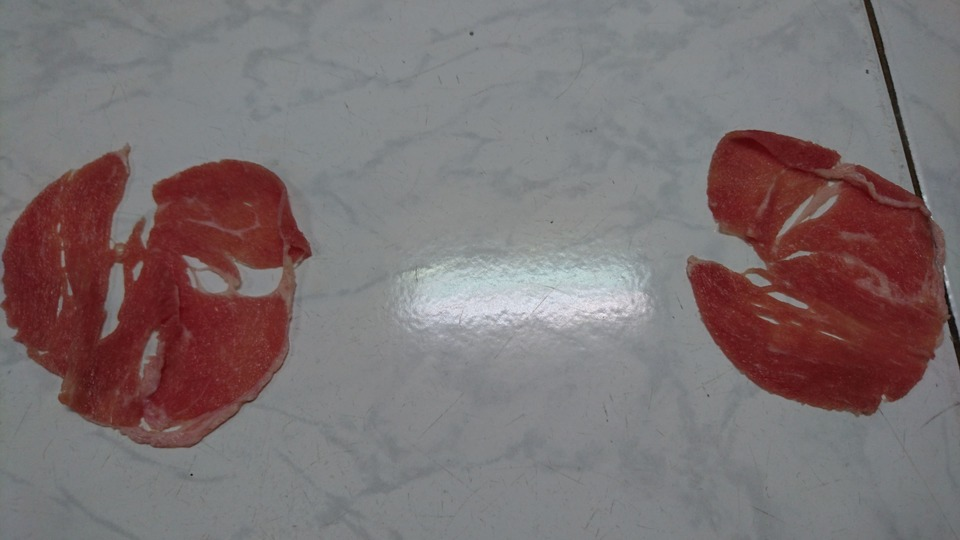restructured meat: (15, 140, 305, 448), (679, 100, 950, 426)
